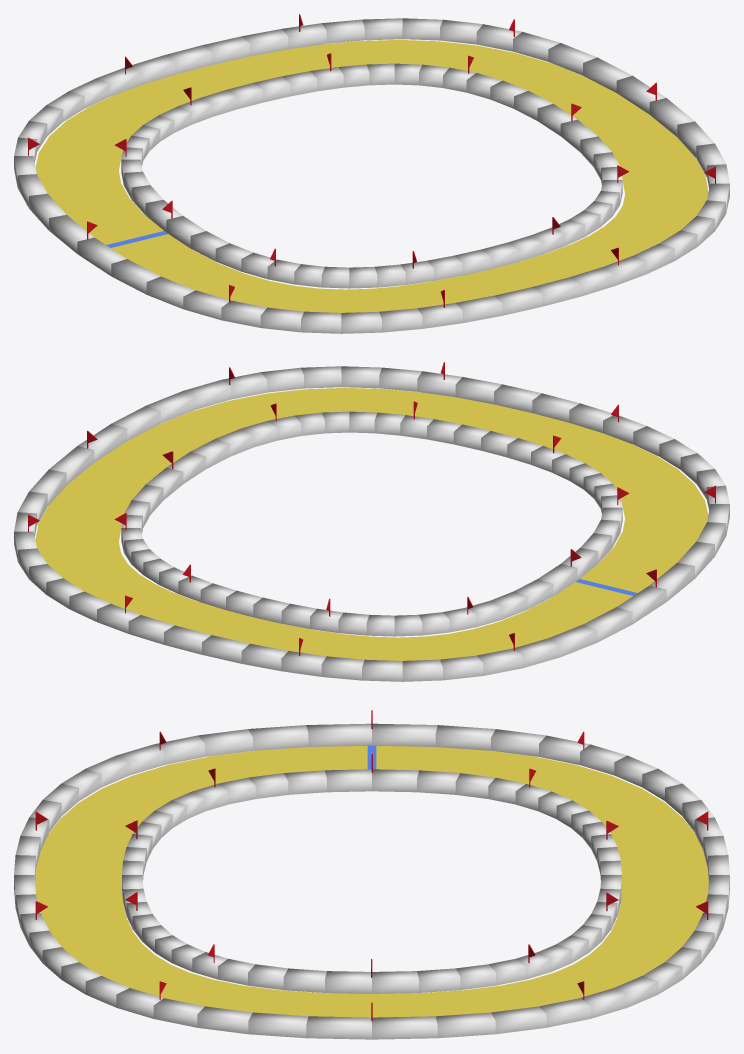
Rendered from lap.glb.
3 renders of one model, top to bottom at view 1: azimuth 30°, elevation 25°; view 2: azimuth 150°, elevation 25°; view 3: azimuth 270°, elevation 25°, orthographic. The views are drawn at different scales.
Parts seen in each view (by area): view 1: Lap, OuterWall, InnerWall; view 2: Lap, OuterWall, InnerWall; view 3: Lap, OuterWall, InnerWall.
Part boxes in pixels (x1,y1,x2,y2): Lap: (28, 14, 715, 312); OuterWall: (14, 18, 729, 333); InnerWall: (121, 63, 622, 288); Lap: (28, 362, 715, 660); OuterWall: (14, 366, 729, 681); InnerWall: (121, 411, 622, 636); Lap: (35, 710, 708, 1021); OuterWall: (14, 723, 729, 1039); InnerWall: (122, 769, 621, 993).
Size of the model in its own units: 48.69 by 2.38 by 48.69.
